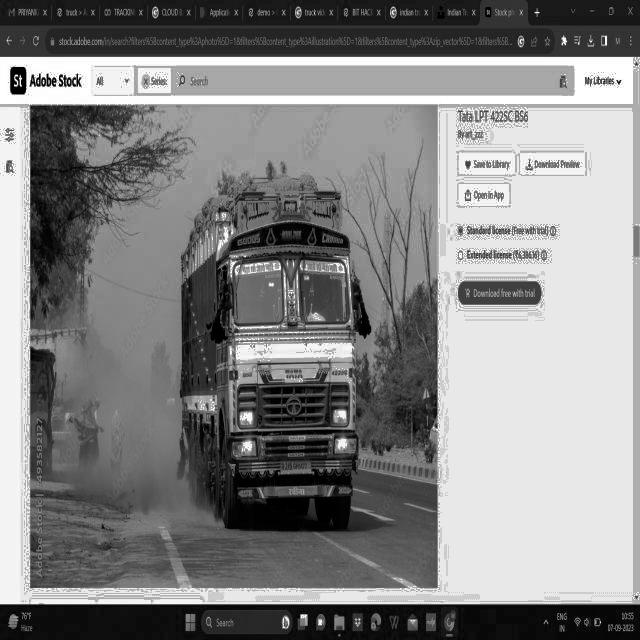HCV: (156, 155, 391, 558)
